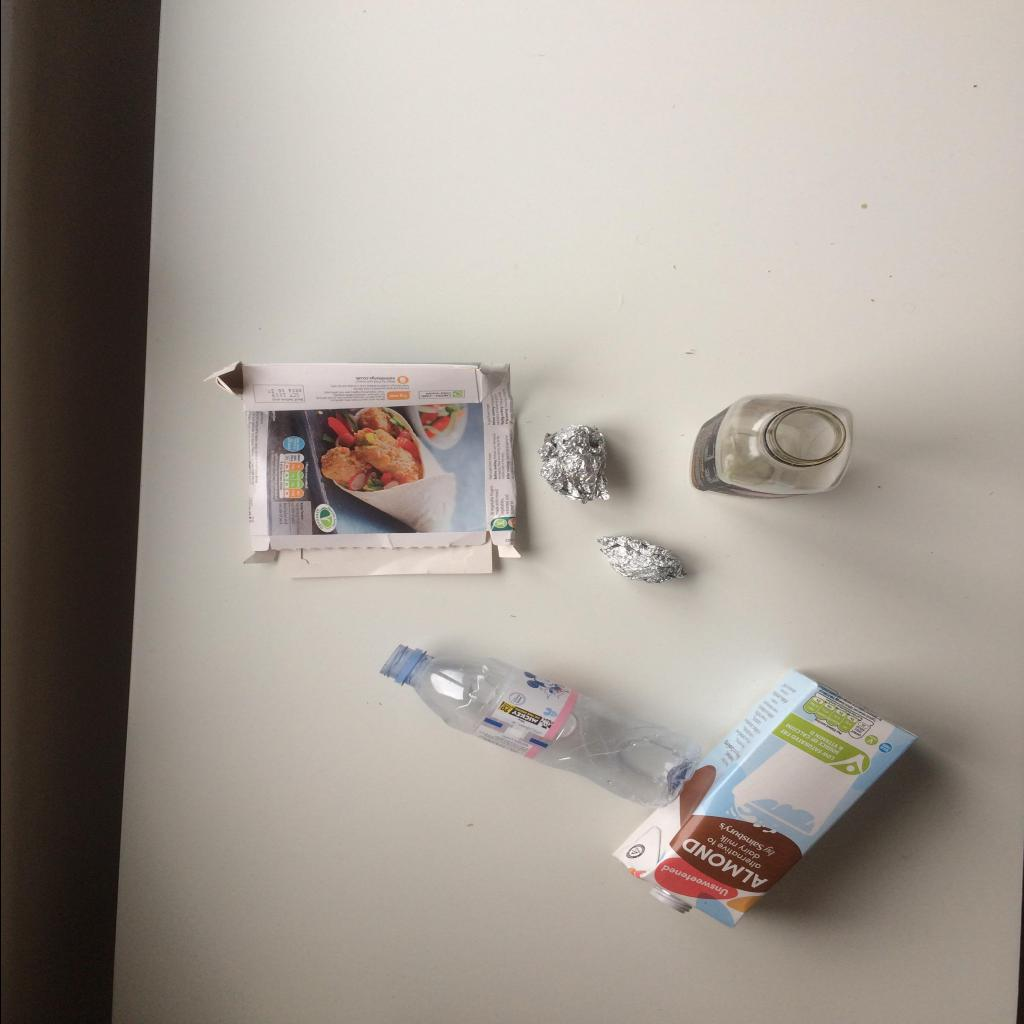Aluminium foil: (537, 424, 608, 504), (596, 534, 686, 584)
Clear plastic bottle: (378, 644, 700, 810), (688, 394, 852, 500)
Other carton: (202, 362, 520, 578)
